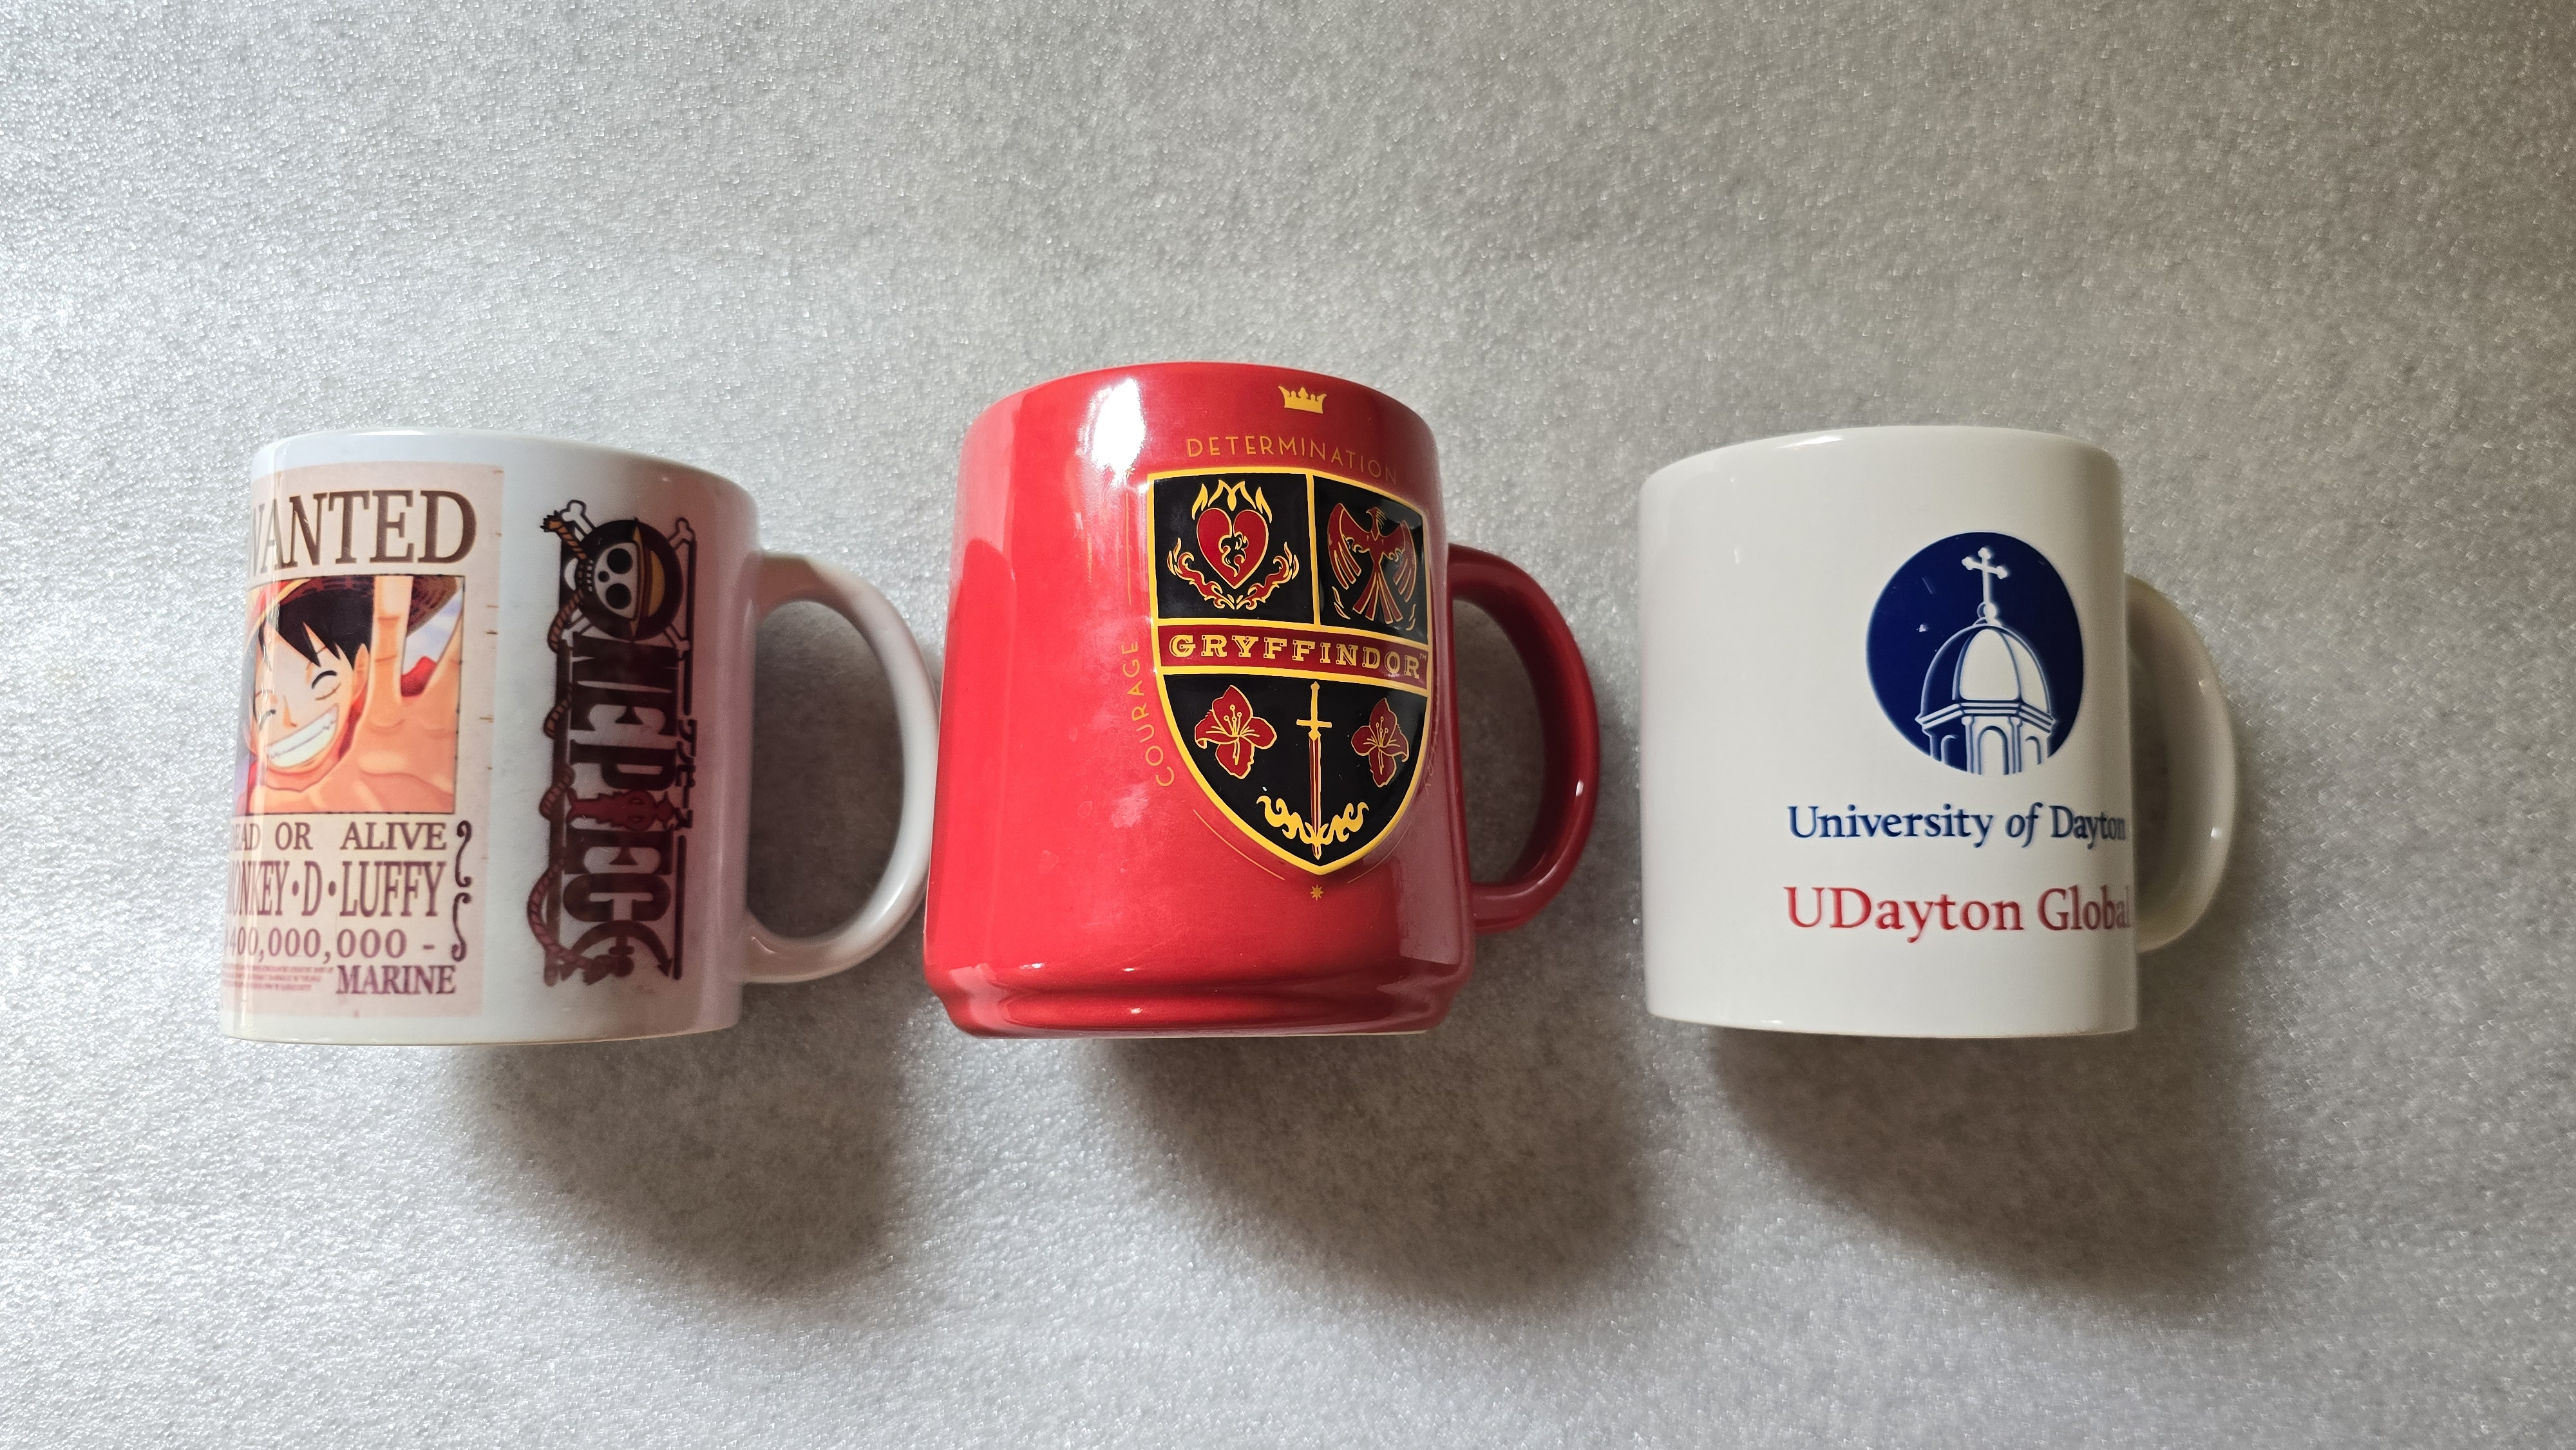mug: (203, 387, 962, 1080), (936, 370, 1603, 1086), (1624, 421, 2265, 1096)
